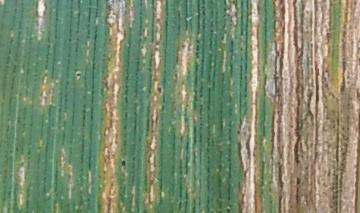tarspot: (153, 83, 166, 97), (120, 156, 128, 169), (73, 71, 84, 77)
